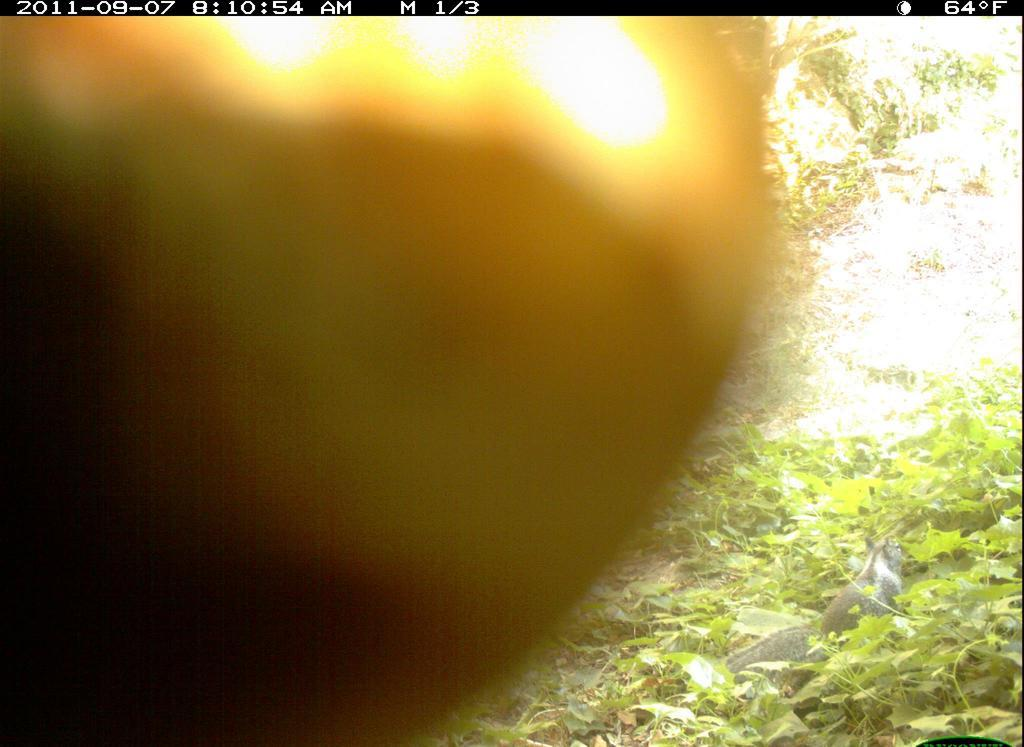squirrel: (710, 507, 946, 696)
